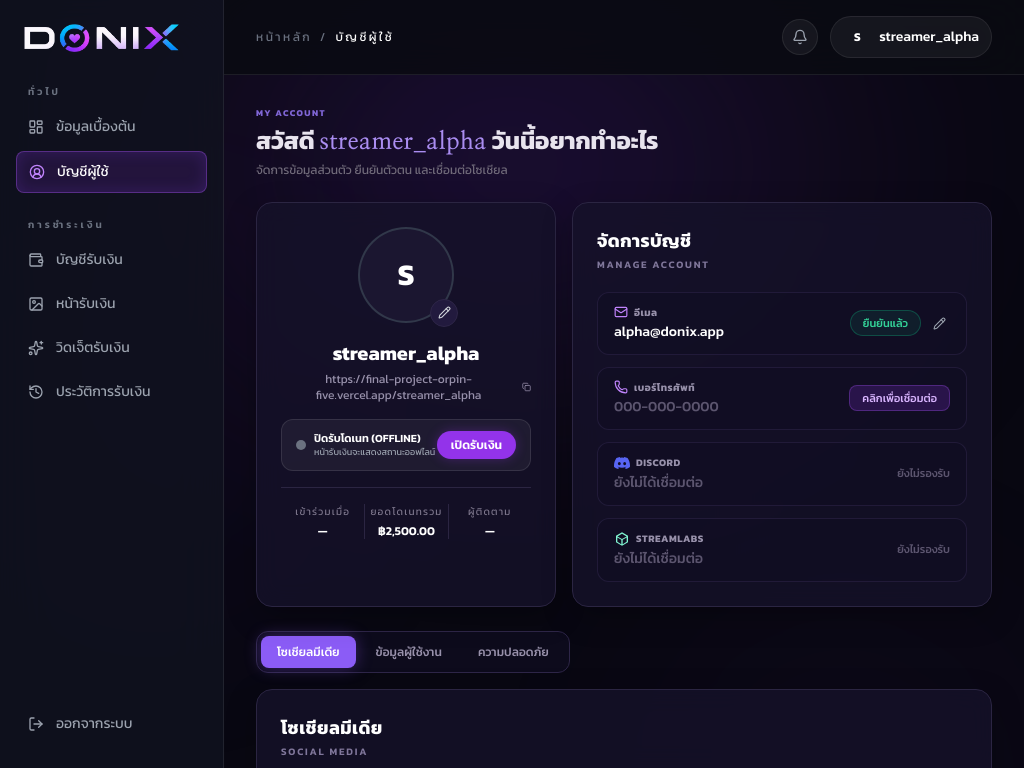
it: Account Page Integration › saves profile successfully and displays success notification
Expected: the text "My Account" is shown, [256,106,326,120]
// Switch to User Info tab
Click the button "ข้อมูลผู้ใช้งาน": (409, 652) [360,636,458,668]
(page scrolled)
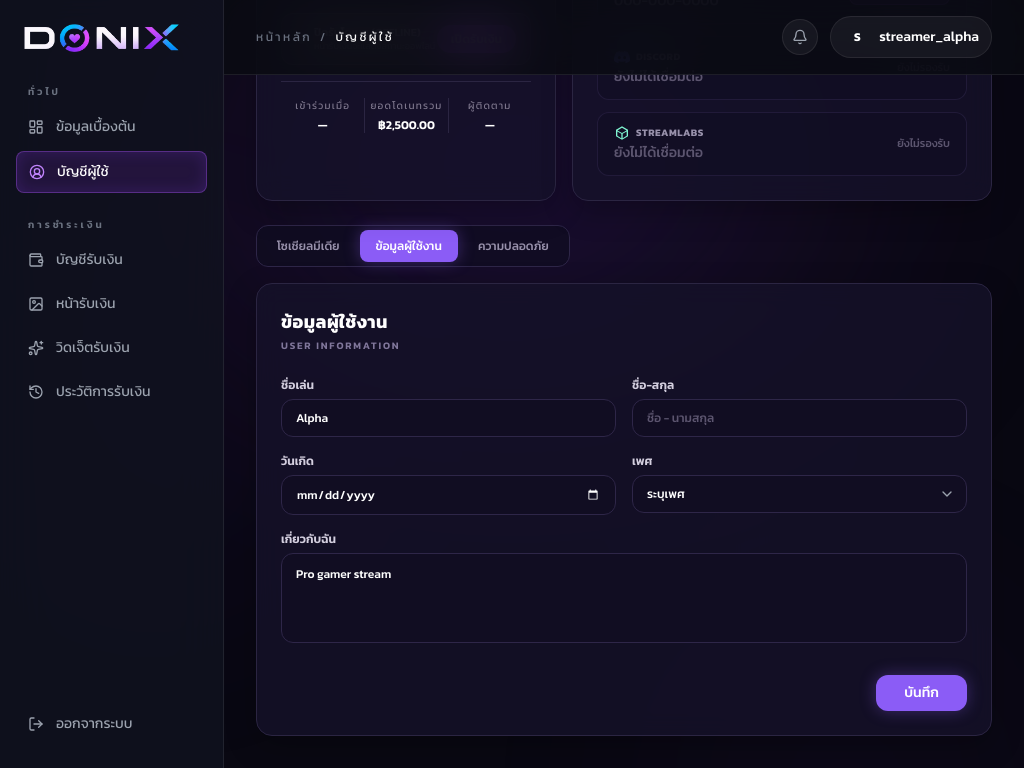
Result: the text "USER INFORMATION" is shown at [281,338,400,352]
// Click Save button in User Info
Click the button "บันทึก": (922, 692) [876,674,967,710]
(page scrolled)
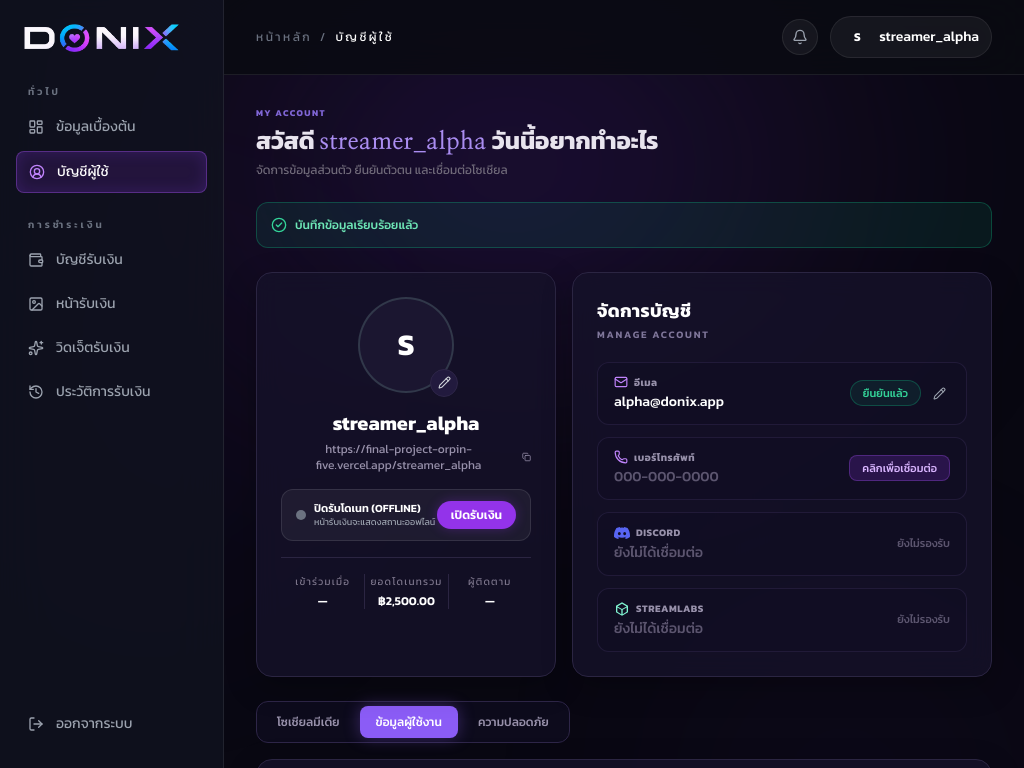
Result: the text "บันทึกข้อมูลเรียบร้อยแล้ว" is shown at [295,216,418,232]
